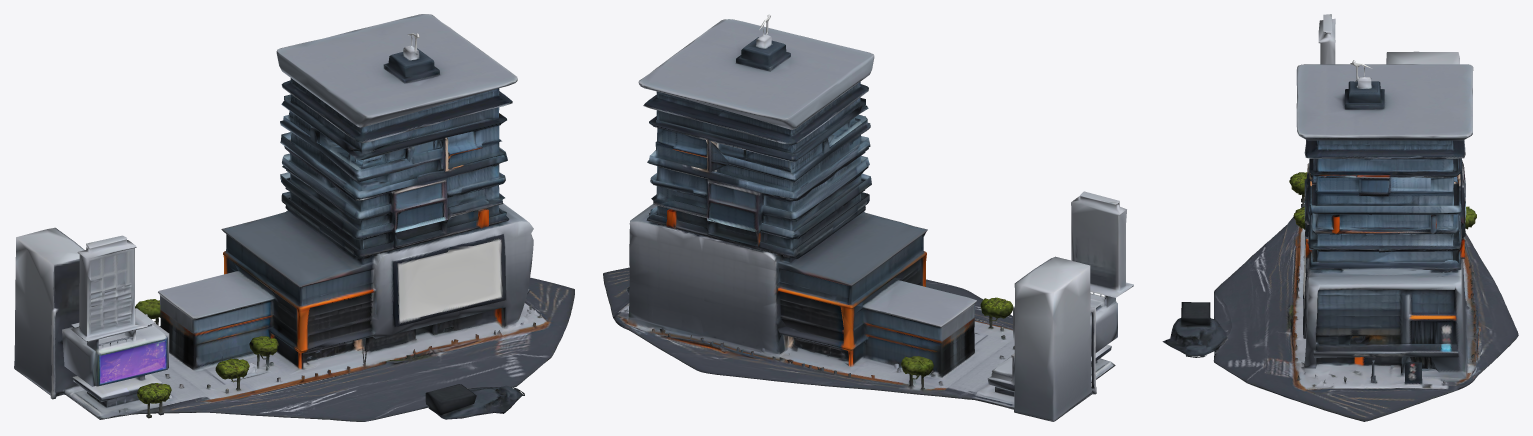
File: Flashpoint_Higgsfield_Raw.glb
3 renders of one model, left to right at view 1: azimuth 30°, elevation 25°; view 2: azimuth 150°, elevation 25°; view 3: azimuth 270°, elevation 25°, orthographic. The views are drawn at different scales.
Parts seen in each view (by area): view 1: tripo_node_7c9d2102-79bf-48cd-8d4f-03bce08ec625; view 2: tripo_node_7c9d2102-79bf-48cd-8d4f-03bce08ec625; view 3: tripo_node_7c9d2102-79bf-48cd-8d4f-03bce08ec625.
Part boxes in pixels (x1=…): tripo_node_7c9d2102-79bf-48cd-8d4f-03bce08ec625: x1=14, y1=14, x2=574, y2=421; tripo_node_7c9d2102-79bf-48cd-8d4f-03bce08ec625: x1=603, y1=14, x2=1133, y2=421; tripo_node_7c9d2102-79bf-48cd-8d4f-03bce08ec625: x1=1162, y1=14, x2=1518, y2=421.
Bounding box in the file's own units: 0.9811 × 0.5565 × 0.6186.
Materials: 1 (1 with a texture image).
